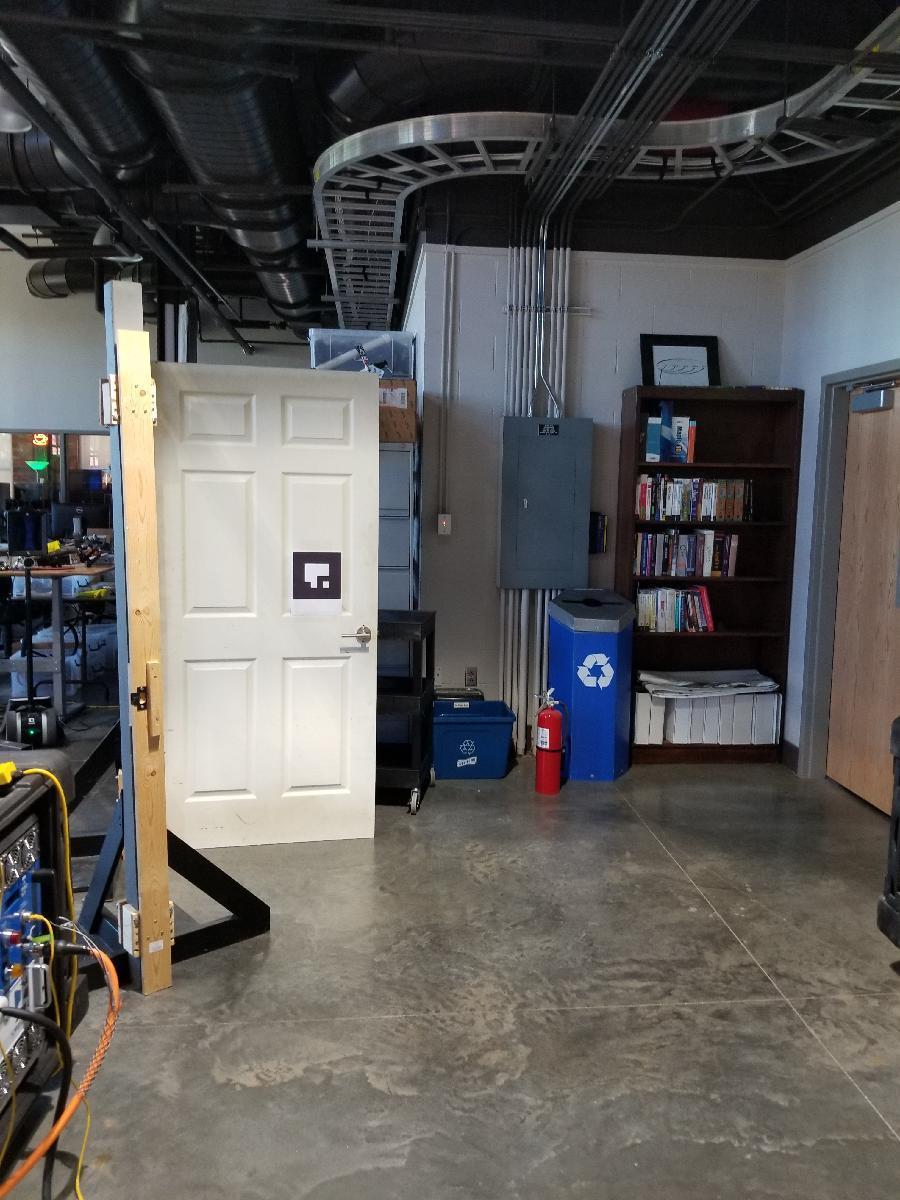door: (154, 366, 386, 844)
handle: (338, 620, 374, 649)
